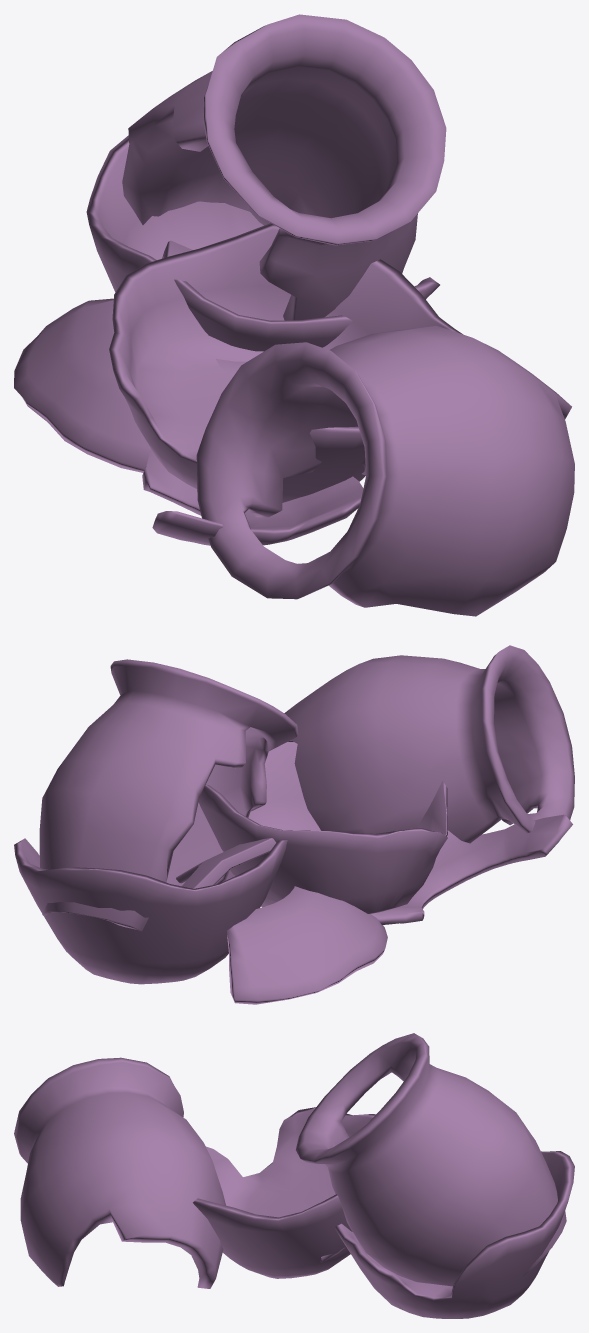
The model's file is Jar_Break_03C_Lod0.fbx.
The picture shows the model from 3 angles, top to bottom: view 1: azimuth 30°, elevation 25°; view 2: azimuth 150°, elevation 25°; view 3: azimuth 270°, elevation 25°; orthographic projection. The views are drawn at different scales.
Parts seen in each view (by area): view 1: Jar_Break_03C_Lod0; view 2: Jar_Break_03C_Lod0; view 3: Jar_Break_03C_Lod0.
Part boxes in pixels (x1,y1,x2,y2): Jar_Break_03C_Lod0: (14, 14, 574, 616); Jar_Break_03C_Lod0: (14, 645, 574, 1004); Jar_Break_03C_Lod0: (14, 1033, 574, 1318).
Bounding box in the file's own units: 76.91 × 58.26 × 117.
